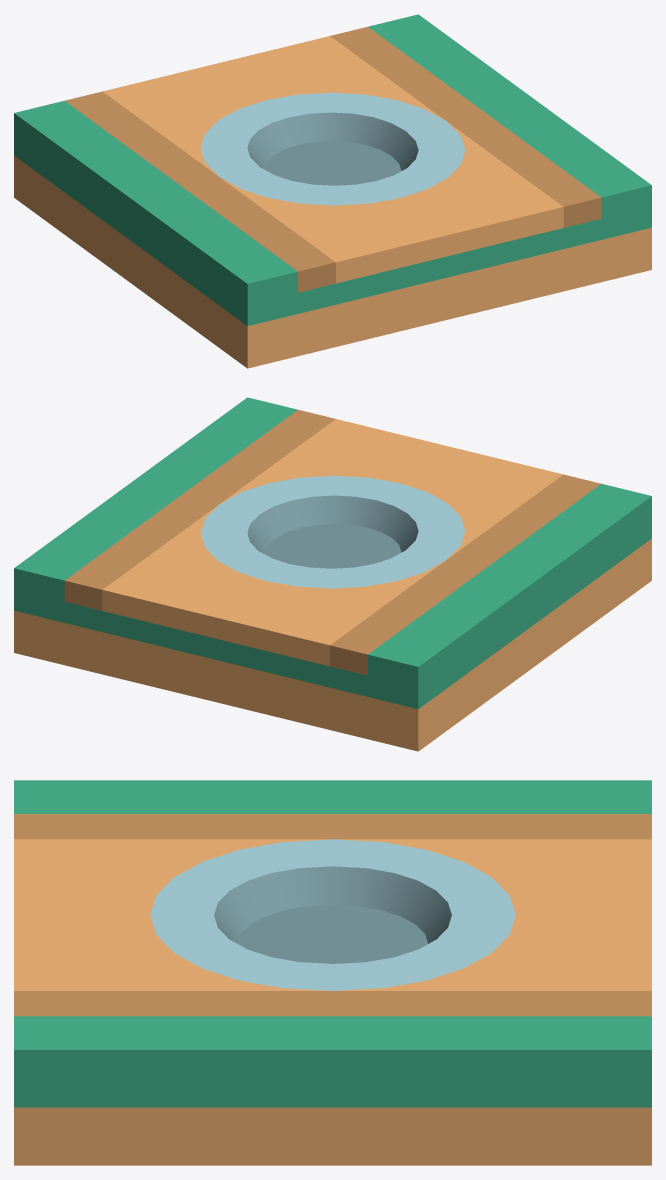
Rendered from tile_spawnRound(+).fbx.
The picture shows the model from 3 angles, top to bottom: view 1: azimuth 30°, elevation 25°; view 2: azimuth 150°, elevation 25°; view 3: azimuth 270°, elevation 25°; orthographic projection. The views are drawn at different scales.
Parts seen in each view (by area): view 1: Mesh_4; view 2: Mesh_4; view 3: Mesh_4.
Boxes of the visible parts, bbox=[...] form: Mesh_4: bbox=[14, 14, 651, 368]; Mesh_4: bbox=[14, 397, 651, 751]; Mesh_4: bbox=[14, 780, 651, 1165].
Size of the model in its own units: 100 by 20 by 100.
